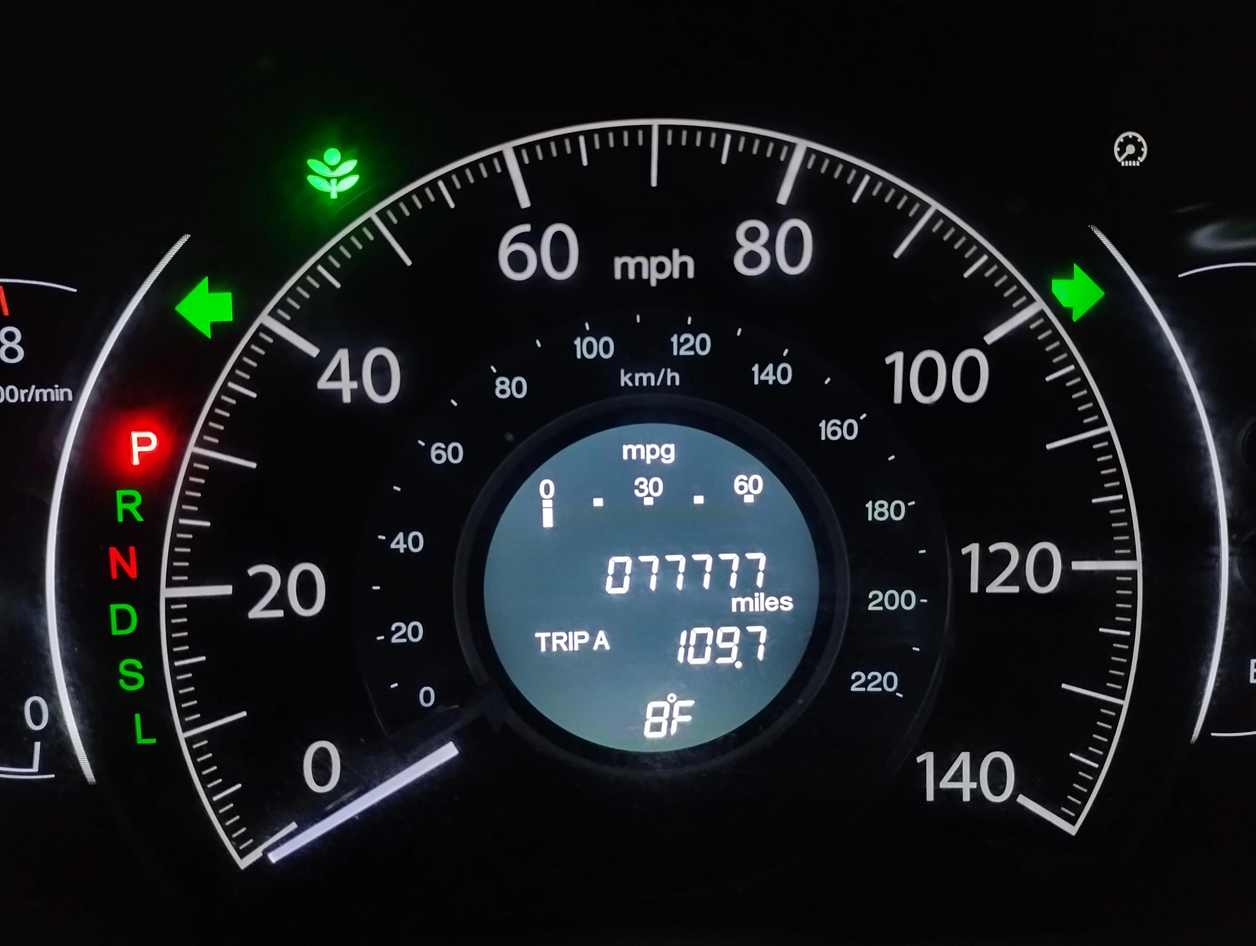odometer: (477, 419, 828, 756)
